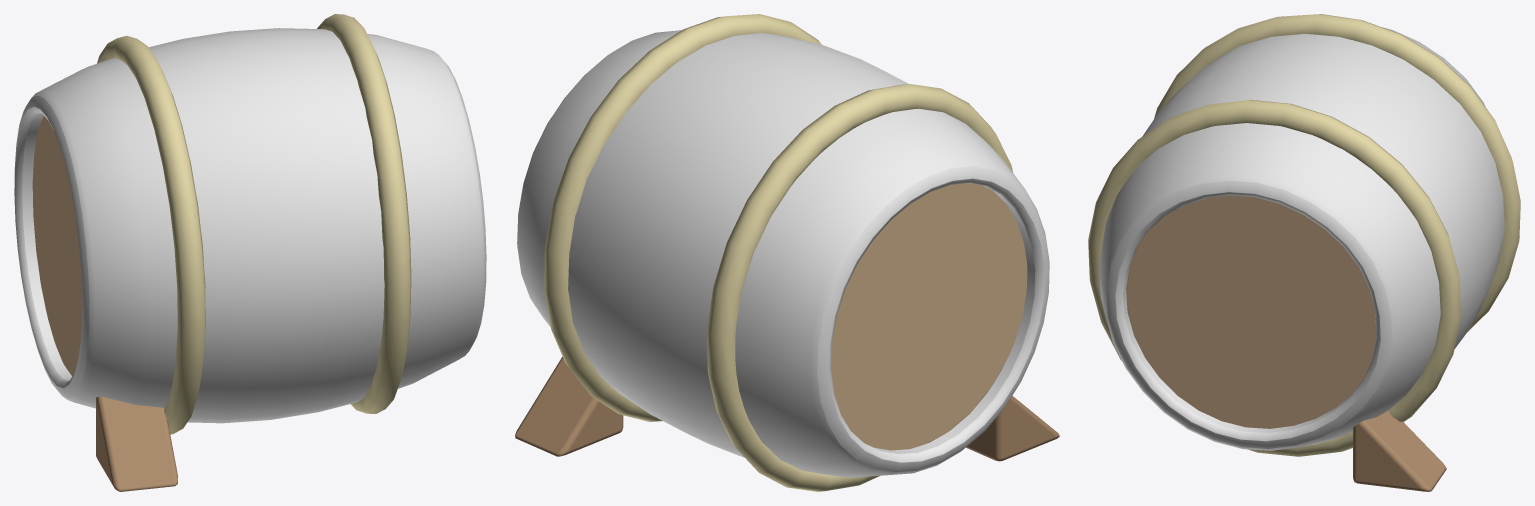
The model's file is pg_barrel_4.glb.
3 renders of one model, left to right at view 1: azimuth 30°, elevation 25°; view 2: azimuth 150°, elevation 25°; view 3: azimuth 270°, elevation 25°, orthographic. The views are drawn at different scales.
Parts seen in each view (by area): view 1: pg_barrel_4_pg_stave, pg_barrel_4_bamboo, pg_barrel_4_plank, pg_barrel_4_timber; view 2: pg_barrel_4_pg_stave, pg_barrel_4_plank, pg_barrel_4_bamboo, pg_barrel_4_timber; view 3: pg_barrel_4_pg_stave, pg_barrel_4_plank, pg_barrel_4_bamboo, pg_barrel_4_timber.
Boxes of the visible parts, x1=… form: pg_barrel_4_pg_stave: x1=14, y1=28, x2=486, y2=423; pg_barrel_4_bamboo: x1=97, y1=14, x2=411, y2=434; pg_barrel_4_plank: x1=32, y1=116, x2=82, y2=375; pg_barrel_4_timber: x1=96, y1=396, x2=177, y2=491; pg_barrel_4_pg_stave: x1=517, y1=30, x2=1049, y2=477; pg_barrel_4_plank: x1=831, y1=183, x2=1027, y2=450; pg_barrel_4_bamboo: x1=544, y1=14, x2=1012, y2=491; pg_barrel_4_timber: x1=515, y1=357, x2=1059, y2=461; pg_barrel_4_pg_stave: x1=1099, y1=27, x2=1504, y2=450; pg_barrel_4_plank: x1=1126, y1=195, x2=1376, y2=428; pg_barrel_4_bamboo: x1=1088, y1=14, x2=1520, y2=456; pg_barrel_4_timber: x1=1353, y1=411, x2=1446, y2=491.
Size of the model in its own units: 0.9861 by 0.8286 by 0.9185.
